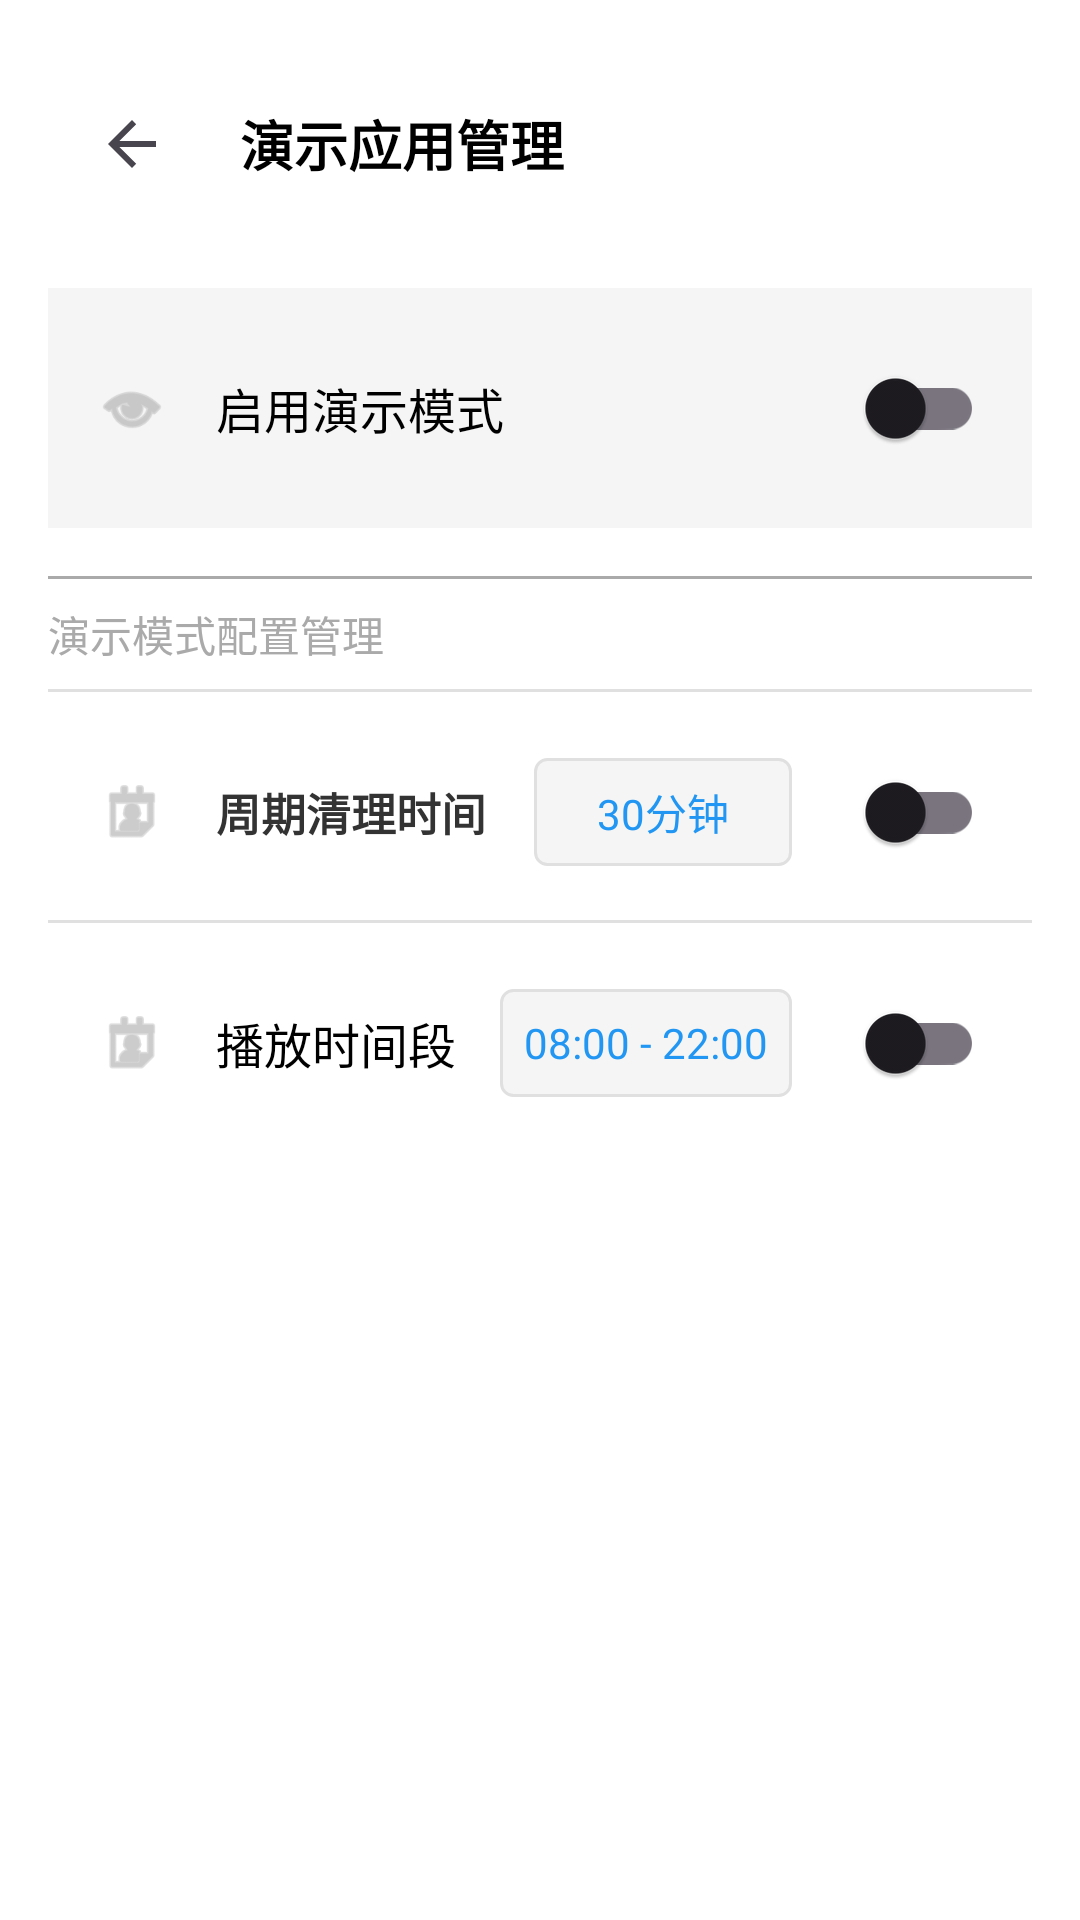

Icon bounding boxes for this 1080x1920 phone screenshot, format (x1, y1, x2, y2):
calendar: (109, 785, 155, 837), (109, 1016, 155, 1068)
view: (103, 392, 161, 428)
